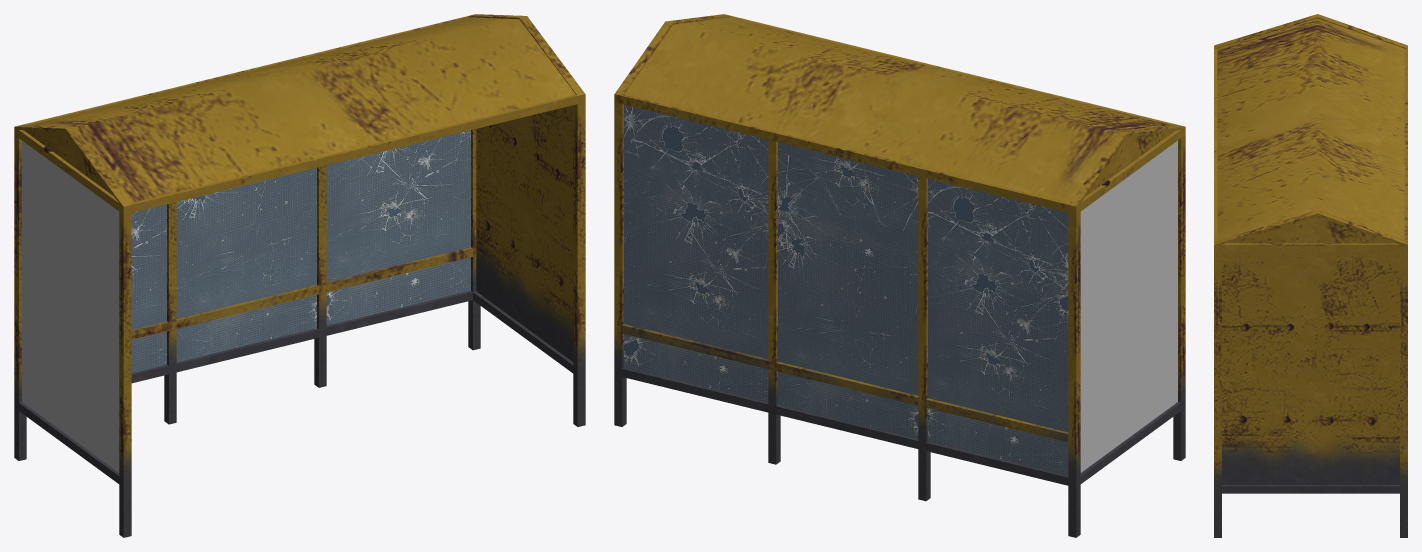
File: tingzi.FBX
3 renders of one model, left to right at view 1: azimuth 30°, elevation 25°; view 2: azimuth 150°, elevation 25°; view 3: azimuth 270°, elevation 25°, orthographic. The views are drawn at different scales.
Visible parts, largest first — view 1: polySurface253, chuang, haibao; view 2: chuang, polySurface253, haibao; view 3: polySurface253.
Part boxes in pixels (box(x1,y1,x2,y2)): polySurface253: box(14, 14, 585, 537); chuang: box(131, 130, 470, 373); haibao: box(22, 140, 119, 472); chuang: box(624, 104, 1068, 475); polySurface253: box(614, 14, 1185, 537); haibao: box(1080, 140, 1177, 472); polySurface253: box(1214, 14, 1407, 537).
Size of the model in its own units: 4.37 by 3.31 by 1.79.
